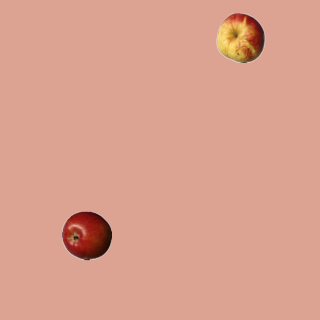Apple Braeburn: (61, 210, 111, 260)
Apple Red Yellow 1: (215, 12, 265, 62)
